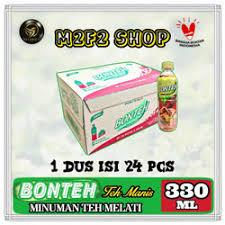BIODEGRADABLE: (145, 61, 188, 132)
